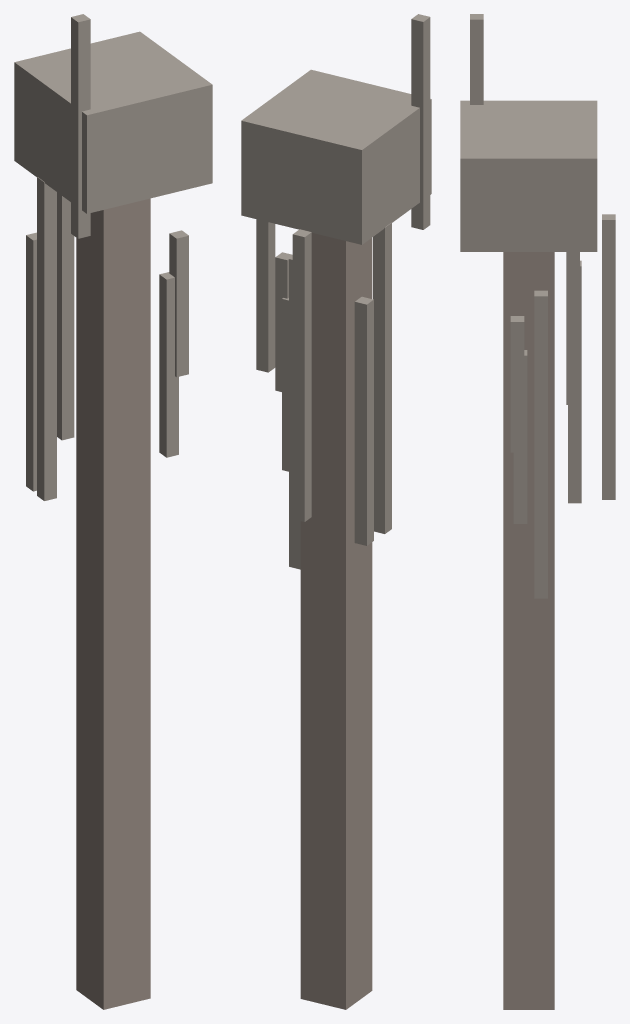
File: Prop_DeadTree.glb
3 views of the same model, side by side, from view 1: azimuth 30°, elevation 25°; view 2: azimuth 150°, elevation 25°; view 3: azimuth 270°, elevation 25° (orthographic). The views are drawn at different scales.
Bounding box in the file's own units: 0.8436 × 6.15 × 0.906.
